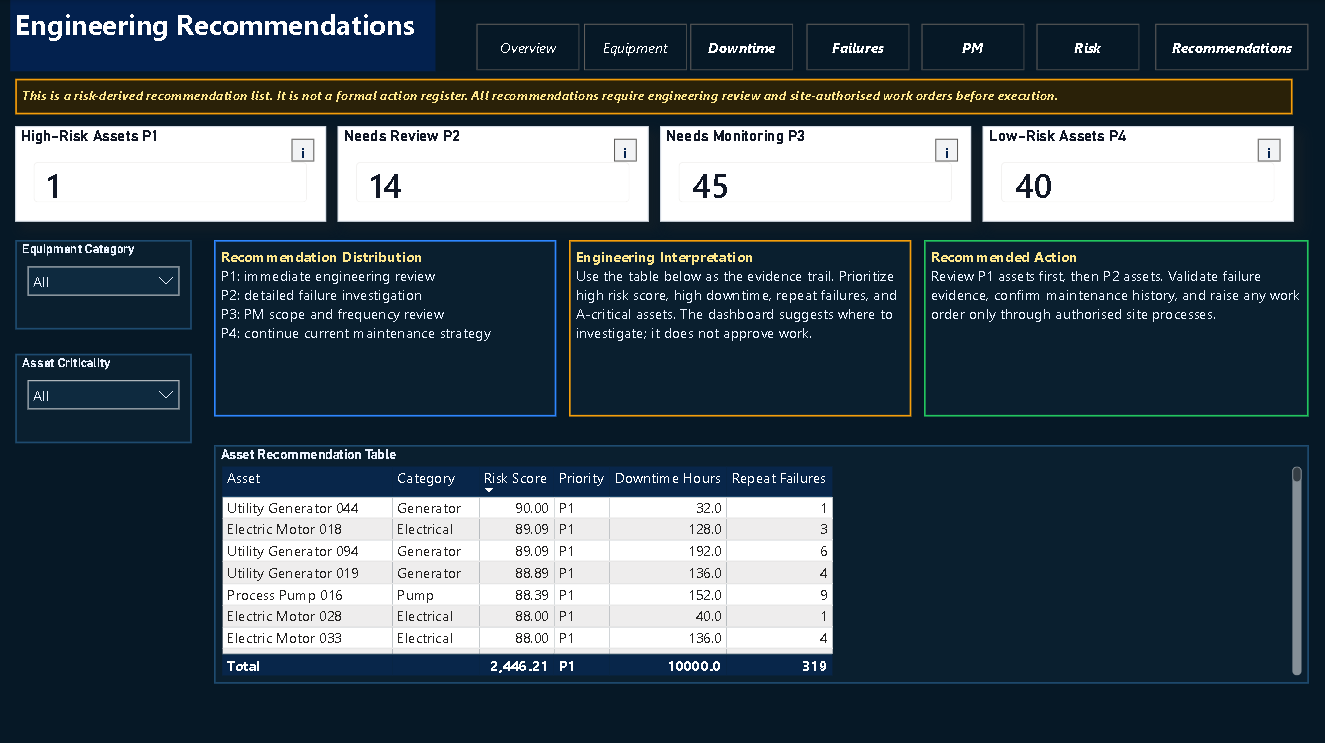

The page's visual inventory and layout, read from the dashboard file:
{"tool":"powerbi","page":{"name":"Engineering Recommendations","canvas":[1280,720],"ordinal":6},"visuals":[{"type":"textbox","box":[10.7,0,410,68.8],"z":0},{"type":"actionButton","title":"Overview","box":[460.5,23.3,99.6,45.1],"z":100},{"type":"actionButton","title":"Equipment","box":[564.7,23.3,99.6,45.1],"z":200},{"type":"actionButton","title":"Downtime","box":[667.4,23.3,99.6,45.1],"z":300},{"type":"actionButton","title":"Failures","box":[779.4,23.3,99.6,45.1],"z":400},{"type":"actionButton","title":"PM","box":[889.8,23.3,99.6,45.1],"z":500},{"type":"actionButton","title":"Risk","box":[1001.9,23.3,99.6,45.1],"z":600},{"type":"actionButton","title":"Recommendations","box":[1115.4,23.3,147.8,45.1],"z":700},{"type":"textbox","box":[16,76,1233,34],"z":900},{"type":"cardVisual","title":"High-Risk Assets P1","fields":{"Data":["High-Risk Assets"]},"box":[16,122,300,92],"z":1000},{"type":"cardVisual","title":"Needs Review P2","fields":{"Data":["P2 Assets"]},"box":[327,122,300,92],"z":1100},{"type":"cardVisual","title":"Needs Monitoring P3","fields":{"Data":["P3 Assets"]},"box":[638,122,300,92],"z":1200},{"type":"cardVisual","title":"Low-Risk Assets P4","fields":{"Data":["P4 Assets"]},"box":[949,122,300,92],"z":1300},{"type":"slicer","title":"Equipment Category","fields":{"Values":["dim_Asset.EquipmentCategory"]},"box":[16,232,170,86],"z":2000},{"type":"slicer","title":"Asset Criticality","fields":{"Values":["dim_Asset.CriticalityRating"]},"box":[16,342,170,86],"z":2100},{"type":"textbox","box":[207,232,330,170],"z":3000},{"type":"textbox","box":[550,232,330,170],"z":3100},{"type":"textbox","box":[893,232,371,170],"z":3200},{"type":"tableEx","title":"Asset Recommendation Table","fields":{"Values":["dim_Asset.AssetName","dim_Asset.EquipmentCategory","Risk Score","Priority","Downtime Hours","Repeat Failures"]},"box":[207,430,1057,230],"z":3300},{"type":"actionButton","title":"KPI info","box":[282,134,22,22],"z":3301},{"type":"actionButton","title":"KPI info","box":[593,134,22,22],"z":3302},{"type":"actionButton","title":"KPI info","box":[904,134,22,22],"z":3303},{"type":"actionButton","title":"KPI info","box":[1215,134,22,22],"z":3304}]}

Visuals, with their boxes in screenshot pixels (x1, y1, x2, y2), scaled from the page's 1280x720 canvas onto the 1325x743 screenshot:
textbox: locate(11, 0, 435, 71)
"Overview" actionButton: locate(477, 24, 580, 71)
"Equipment" actionButton: locate(585, 24, 688, 71)
"Downtime" actionButton: locate(691, 24, 794, 71)
"Failures" actionButton: locate(807, 24, 910, 71)
"PM" actionButton: locate(921, 24, 1024, 71)
"Risk" actionButton: locate(1037, 24, 1140, 71)
"Recommendations" actionButton: locate(1155, 24, 1308, 71)
textbox: locate(17, 78, 1293, 114)
"High-Risk Assets P1" cardVisual: locate(17, 126, 327, 221)
"Needs Review P2" cardVisual: locate(338, 126, 649, 221)
"Needs Monitoring P3" cardVisual: locate(660, 126, 971, 221)
"Low-Risk Assets P4" cardVisual: locate(982, 126, 1293, 221)
"Equipment Category" slicer: locate(17, 239, 193, 328)
"Asset Criticality" slicer: locate(17, 353, 193, 442)
textbox: locate(214, 239, 556, 415)
textbox: locate(569, 239, 911, 415)
textbox: locate(924, 239, 1308, 415)
"Asset Recommendation Table" tableEx: locate(214, 444, 1308, 681)
"KPI info" actionButton: locate(292, 138, 315, 161)
"KPI info" actionButton: locate(614, 138, 637, 161)
"KPI info" actionButton: locate(936, 138, 959, 161)
"KPI info" actionButton: locate(1258, 138, 1280, 161)
